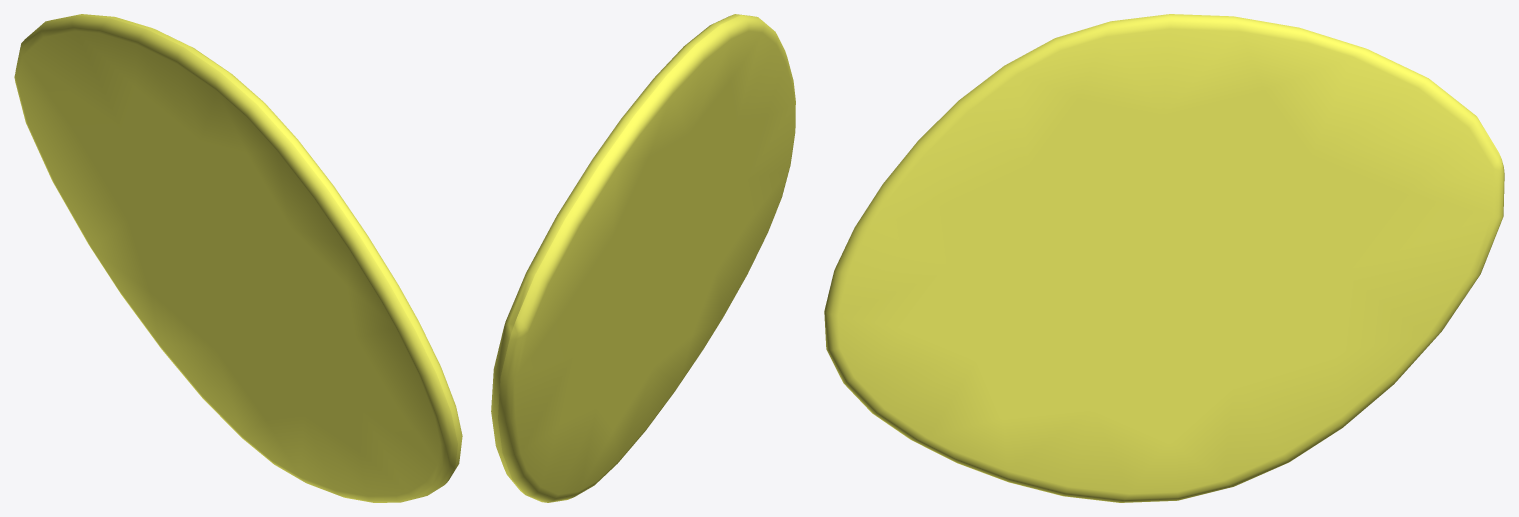
Rendered from fallLeaf_3.glb.
3 views of the same model, side by side, from view 1: azimuth 30°, elevation 25°; view 2: azimuth 150°, elevation 25°; view 3: azimuth 270°, elevation 25° (orthographic). The views are drawn at different scales.
Visible parts, largest first — view 1: Leaf_DarkGreen_Wide.344; view 2: Leaf_DarkGreen_Wide.344; view 3: Leaf_DarkGreen_Wide.344.
Part boxes in pixels (box(x1,y1,x2,y2)): Leaf_DarkGreen_Wide.344: box(14, 14, 462, 502); Leaf_DarkGreen_Wide.344: box(491, 14, 795, 502); Leaf_DarkGreen_Wide.344: box(824, 14, 1504, 502).
Bounding box in the file's own units: 0.5978 × 1.86 × 2.62.
